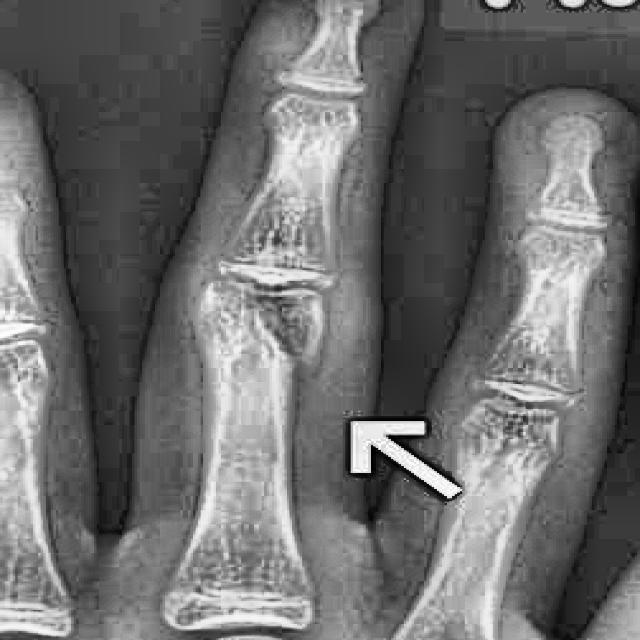fracture: (249, 316, 315, 378)
